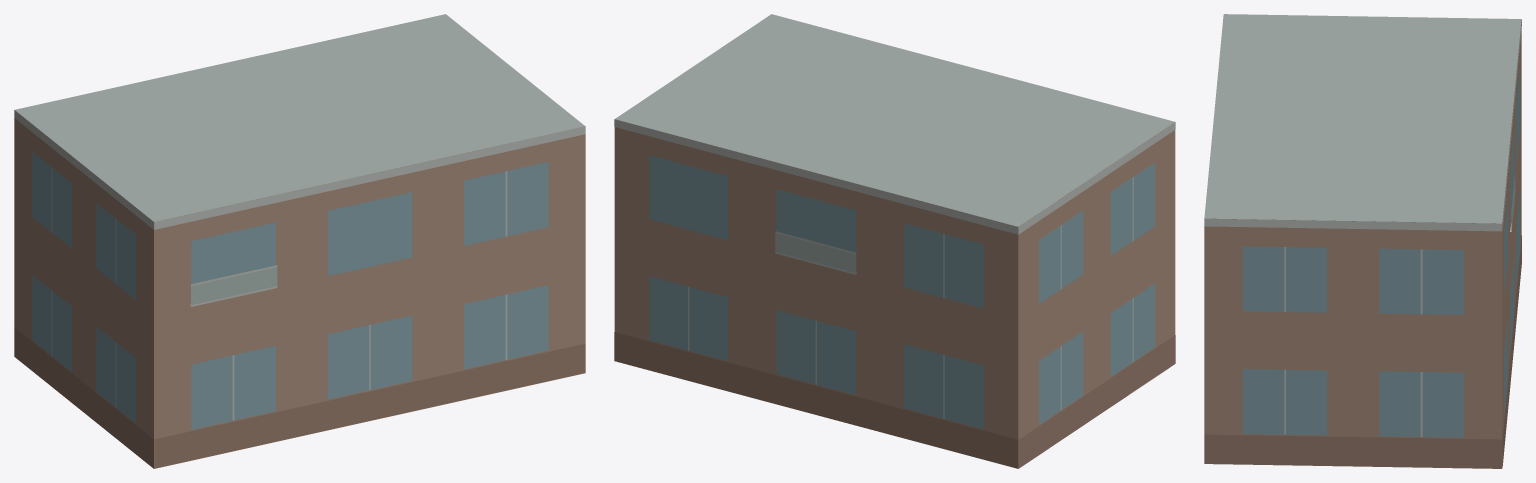
The model's file is survey-upis-32719044.glb.
3 renders of one model, left to right at view 1: azimuth 30°, elevation 25°; view 2: azimuth 150°, elevation 25°; view 3: azimuth 270°, elevation 25°, orthographic. The views are drawn at different scales.
Parts seen in each view (by area): view 1: survey-upis-32719044.tmp; view 2: survey-upis-32719044.tmp; view 3: survey-upis-32719044.tmp.
Part boxes in pixels (left/top/right/bottom): survey-upis-32719044.tmp: left=14, top=14, right=585, bottom=468; survey-upis-32719044.tmp: left=614, top=14, right=1175, bottom=468; survey-upis-32719044.tmp: left=1204, top=14, right=1521, bottom=468.
Size of the model in its own units: 13.93 by 7.6 by 8.92.
